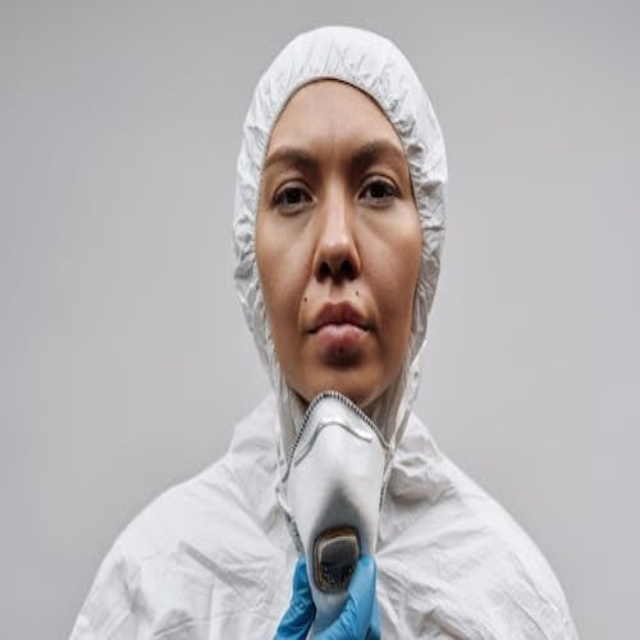Guantes: (268, 553, 381, 640)
Sin_gafas: (270, 148, 407, 213)
Sin_mascara: (280, 287, 383, 376)
